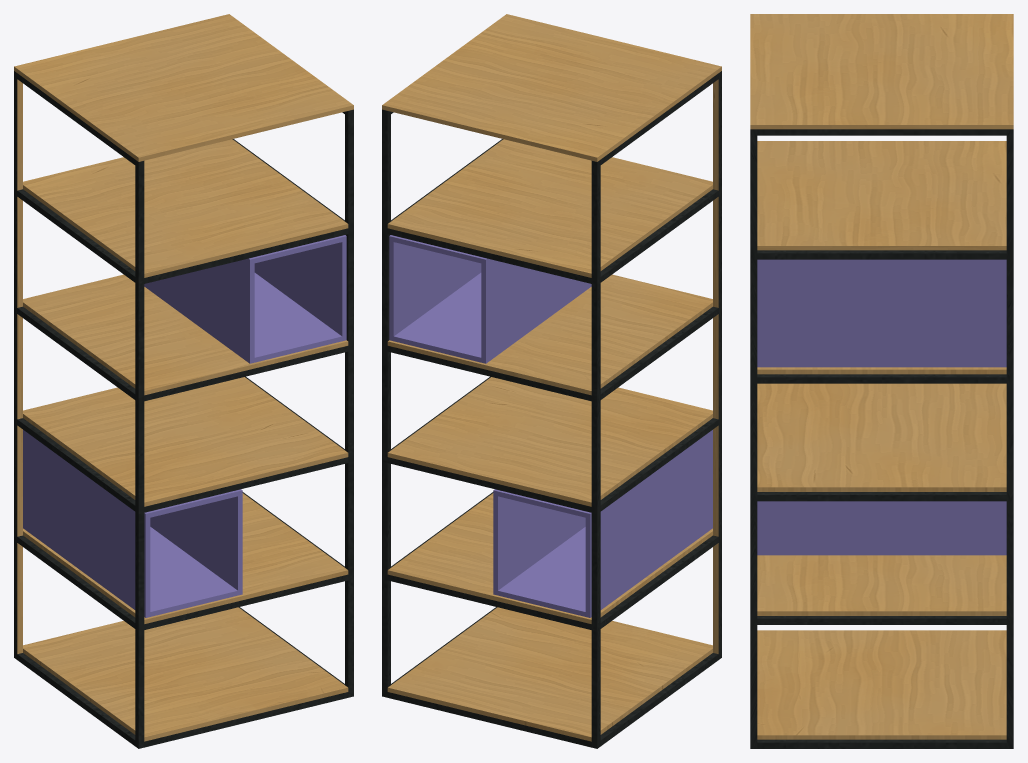
The model's file is cabinet_1_3.glb.
3 views of the same model, side by side, from view 1: azimuth 30°, elevation 25°; view 2: azimuth 150°, elevation 25°; view 3: azimuth 270°, elevation 25° (orthographic). The views are drawn at different scales.
Parts seen in each view (by area): view 1: cabinet_1_3; view 2: cabinet_1_3; view 3: cabinet_1_3.
Part boxes in pixels (x1,y1,x2,y2): cabinet_1_3: (14, 14, 353, 748); cabinet_1_3: (382, 14, 721, 748); cabinet_1_3: (750, 14, 1013, 748).
Size of what is drawn, in the model's own units: 1 by 2.63 by 1.
3 materials, 3 textured.
